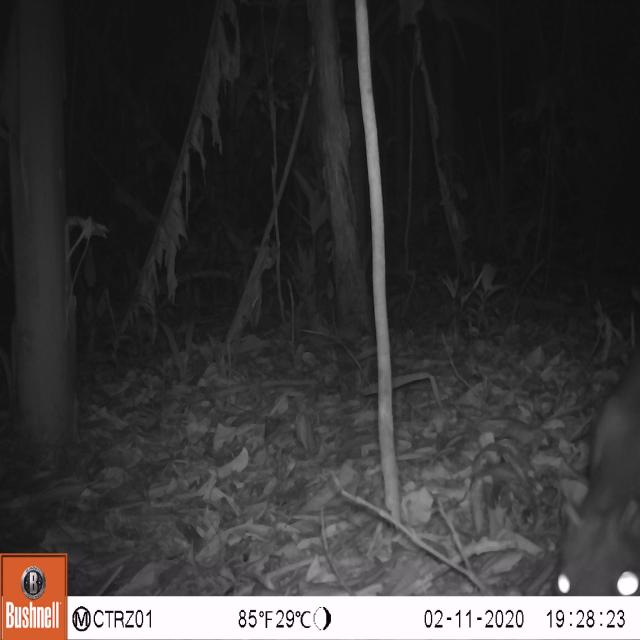Spotted Paca: (549, 336, 640, 595)
